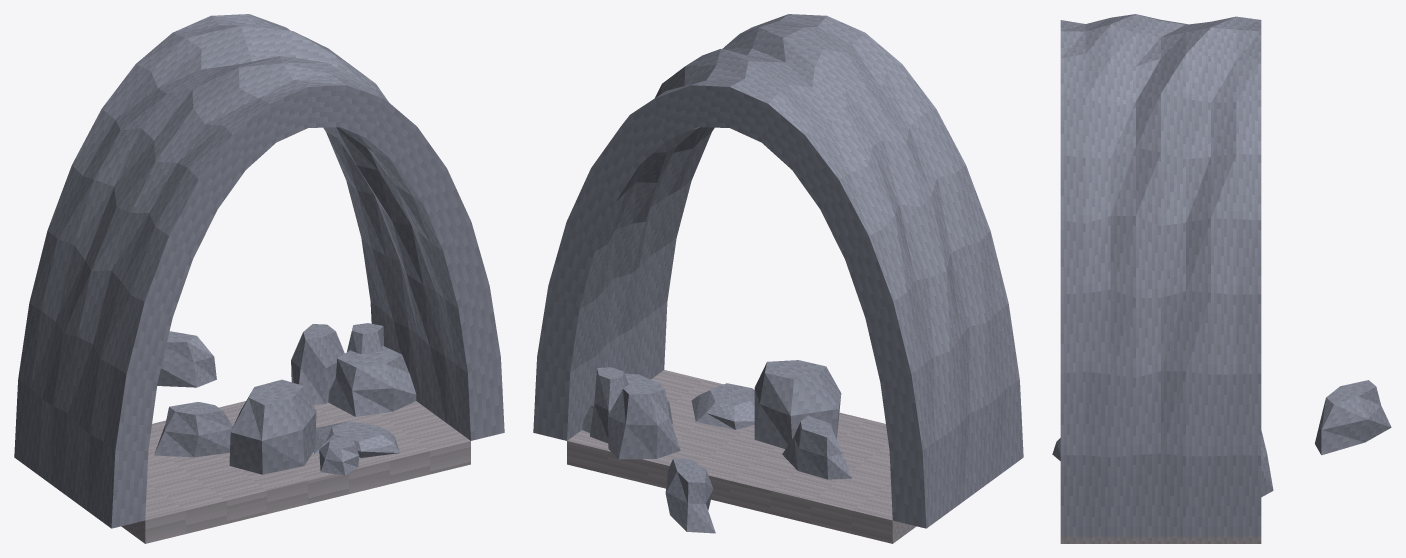
File: cave-and-crystal-networks-boulder-entrance-86b771d9.glb
3 renders of one model, left to right at view 1: azimuth 30°, elevation 25°; view 2: azimuth 150°, elevation 25°; view 3: azimuth 270°, elevation 25°, orthographic. The views are drawn at different scales.
Visible parts, largest first — view 1: boulder-entrance; view 2: boulder-entrance; view 3: boulder-entrance.
Part boxes in pixels (x1,y1,x2,y2): boulder-entrance: (14, 14, 504, 543); boulder-entrance: (533, 14, 1023, 543); boulder-entrance: (1052, 14, 1391, 543).
Size of the model in its own units: 3.5 by 3.61 by 2.54.
2 materials, 2 textured.
